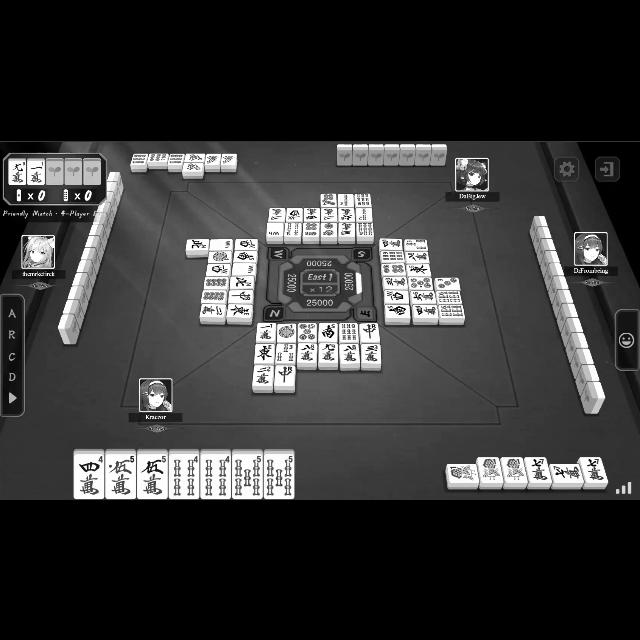1m: (28, 159, 44, 183), (257, 322, 275, 342)
1p: (278, 323, 296, 341), (208, 252, 232, 262)
1s: (448, 464, 478, 482), (479, 458, 501, 482), (504, 458, 524, 482)
2m: (254, 364, 272, 386), (201, 303, 225, 317), (269, 207, 285, 221), (322, 208, 338, 220)
2p: (322, 222, 336, 236)
2s: (358, 207, 372, 221), (339, 193, 353, 205)
3m: (362, 343, 381, 363), (384, 276, 408, 288), (340, 222, 354, 236)
3p: (436, 277, 458, 289)
3s: (276, 343, 294, 362)
4m: (74, 454, 104, 498), (414, 304, 438, 318), (381, 238, 402, 248), (304, 208, 318, 220)
4s: (169, 454, 199, 498), (202, 454, 230, 498), (406, 239, 426, 249), (286, 222, 300, 236)
5m: (137, 454, 167, 498), (106, 454, 134, 498)
5p: (298, 322, 318, 342), (409, 276, 433, 288)
5s: (232, 454, 262, 500), (266, 454, 294, 496)
6m: (410, 290, 436, 302), (339, 208, 353, 222)
6p: (382, 264, 404, 274), (304, 223, 318, 237)
6s: (440, 304, 464, 318), (436, 290, 462, 302), (358, 222, 372, 236)
7m: (552, 464, 582, 482), (584, 457, 604, 481), (530, 457, 548, 481)
7p: (322, 192, 336, 206)
8m: (340, 343, 360, 363), (298, 343, 316, 363), (406, 252, 429, 262)
8p: (202, 290, 226, 302), (205, 276, 227, 288)
9m: (9, 160, 25, 184), (318, 343, 338, 362)
9p: (148, 152, 168, 162), (132, 153, 146, 165), (169, 152, 183, 164)
9s: (340, 323, 358, 341), (382, 251, 403, 261), (356, 192, 370, 205)
chun: (360, 322, 380, 342), (276, 365, 294, 387), (229, 290, 253, 302)
haku: (232, 262, 256, 276), (268, 222, 282, 238), (210, 239, 232, 249)
hatsu: (183, 163, 203, 171), (205, 154, 221, 164), (186, 153, 204, 161), (222, 153, 236, 163)
nan: (320, 322, 338, 342), (384, 305, 410, 317), (235, 250, 257, 260)
pe: (186, 238, 208, 250), (230, 276, 253, 286)
sha: (384, 290, 408, 302), (208, 263, 230, 275), (236, 238, 258, 250), (288, 206, 302, 222)
tou: (228, 303, 252, 317), (256, 344, 274, 362), (408, 264, 429, 274)
